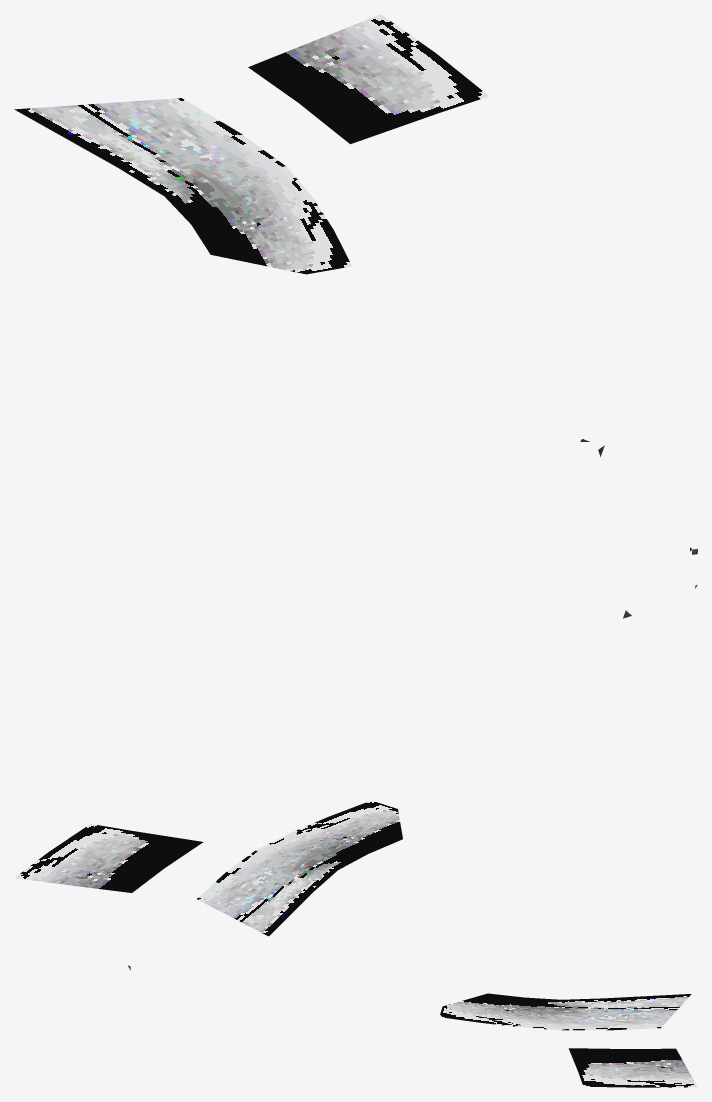
The model's file is world_camden_19_-4.gltf.
The picture shows the model from 3 angles, top to bottom: view 1: azimuth 30°, elevation 25°; view 2: azimuth 150°, elevation 25°; view 3: azimuth 270°, elevation 25°; orthographic projection. The views are drawn at different scales.
Size of the model in its own units: 78.27 by 13.41 by 240.
Materials: 3 (3 with a texture image).
